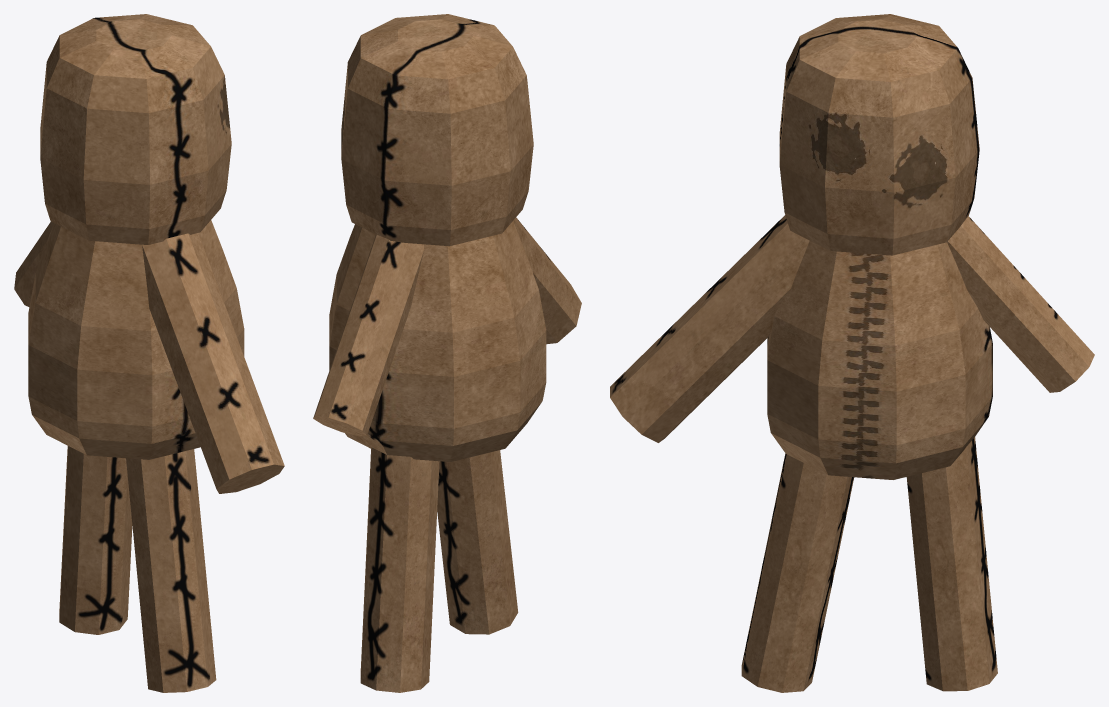
The model's file is DOLL.fbx.
3 views of the same model, side by side, from view 1: azimuth 30°, elevation 25°; view 2: azimuth 150°, elevation 25°; view 3: azimuth 270°, elevation 25° (orthographic). The views are drawn at different scales.
Parts seen in each view (by area): view 1: Leg; view 2: Leg; view 3: Leg.
Boxes of the visible parts, left/top/right/bottom form: Leg: left=14, top=14, right=284, bottom=692; Leg: left=313, top=14, right=581, bottom=692; Leg: left=610, top=14, right=1094, bottom=692.
Size of the model in its own units: 238 by 741 by 504.
